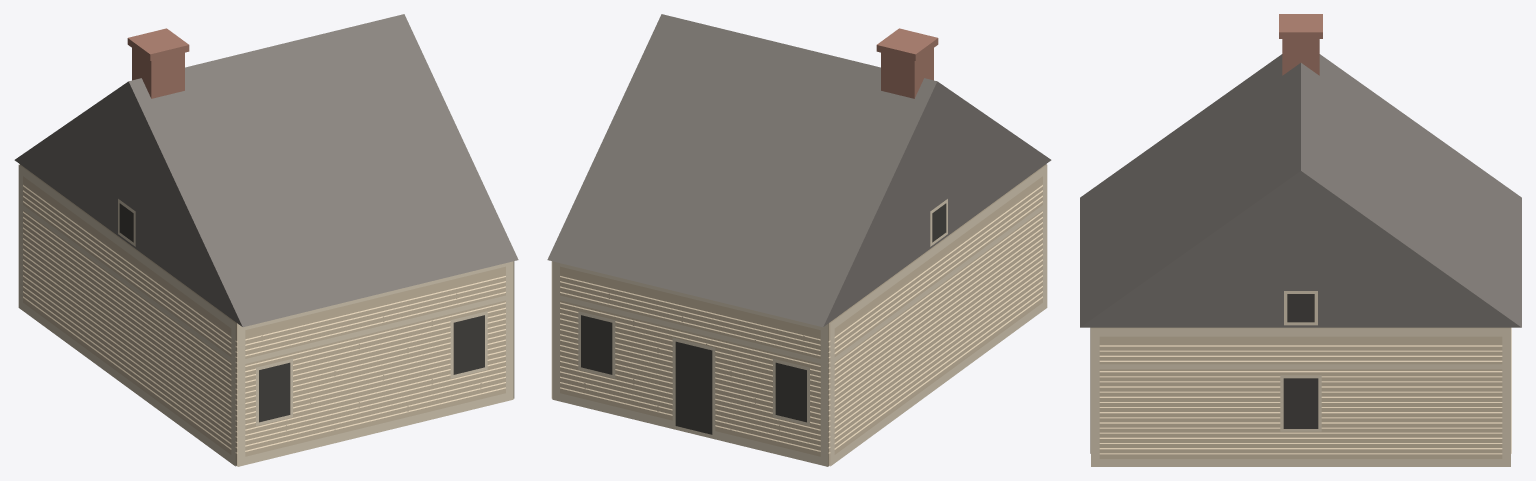
The model's file is recon_1835_north_d6_058__inferred_1835.glb.
3 views of the same model, side by side, from view 1: azimuth 30°, elevation 25°; view 2: azimuth 150°, elevation 25°; view 3: azimuth 270°, elevation 25° (orthographic). The views are drawn at different scales.
Visible parts, largest first — view 1: recon_1835_north_d6_058__inferred_1835; view 2: recon_1835_north_d6_058__inferred_1835; view 3: recon_1835_north_d6_058__inferred_1835.
Boxes of the visible parts, bbox=[...] form: recon_1835_north_d6_058__inferred_1835: bbox=[14, 14, 518, 466]; recon_1835_north_d6_058__inferred_1835: bbox=[547, 14, 1051, 466]; recon_1835_north_d6_058__inferred_1835: bbox=[1080, 14, 1521, 466].
Bounding box in the file's own units: 7.01 × 8.1 × 9.92.
